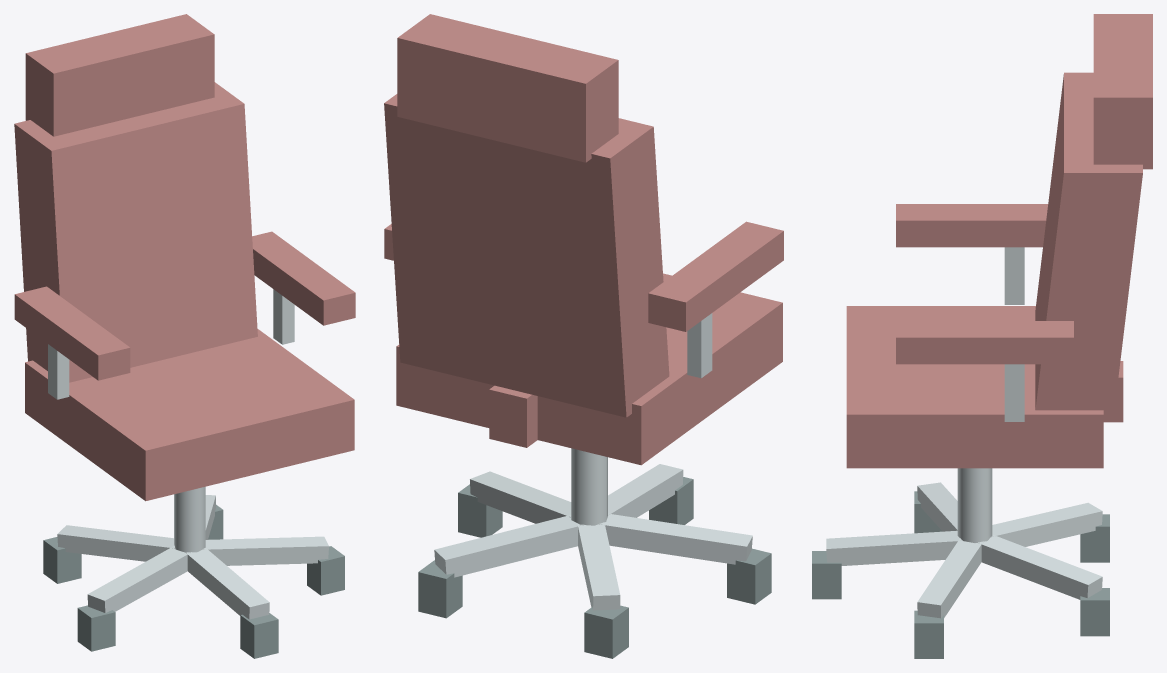
Rendered from officeExecutive.glb.
3 views of the same model, side by side, from view 1: azimuth 30°, elevation 25°; view 2: azimuth 150°, elevation 25°; view 3: azimuth 270°, elevation 25° (orthographic). The views are drawn at different scales.
Visible parts, largest first — view 1: officeExecutive; view 2: officeExecutive; view 3: officeExecutive.
Part boxes in pixels (<box>): officeExecutive: <box>14,14,355,658</box>; officeExecutive: <box>384,14,783,658</box>; officeExecutive: <box>812,14,1152,658</box>.
Bounding box in the file's own units: 0.32 × 0.6 × 0.345.
